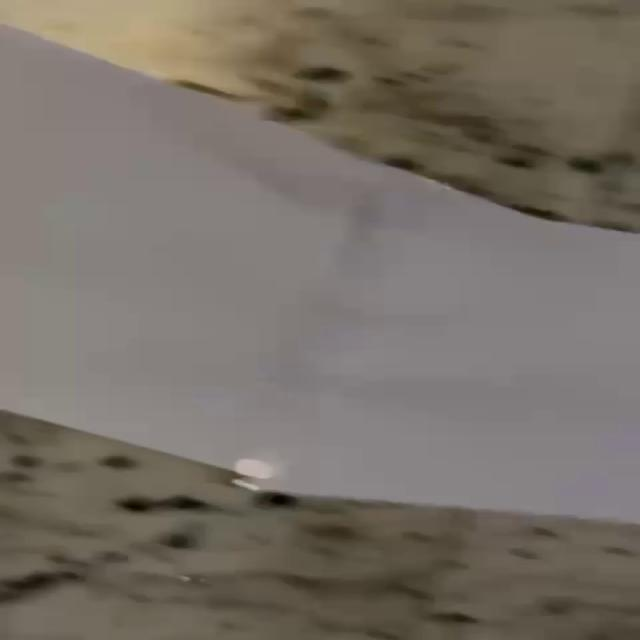road: (0, 23, 640, 527)
